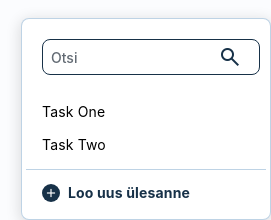
AddToTaskDropdown › search functionality › filters tasks based on search query
This screenshot has width=271, height=220.
(page scrolled)
Expected: the text "Task One" is shown, [42,101,105,122]
Expected: the text "Task Two" is shown, [42,134,106,155]
In the field with placeholder "Otsi": (151, 57) [42,39,260,75], type "One"
(page scrolled)
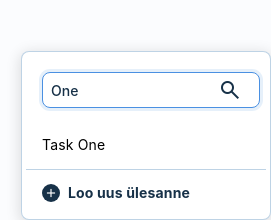
Expected: the text "Task One" is shown, [42,134,105,155]
Now the button "Task Two" is gone
